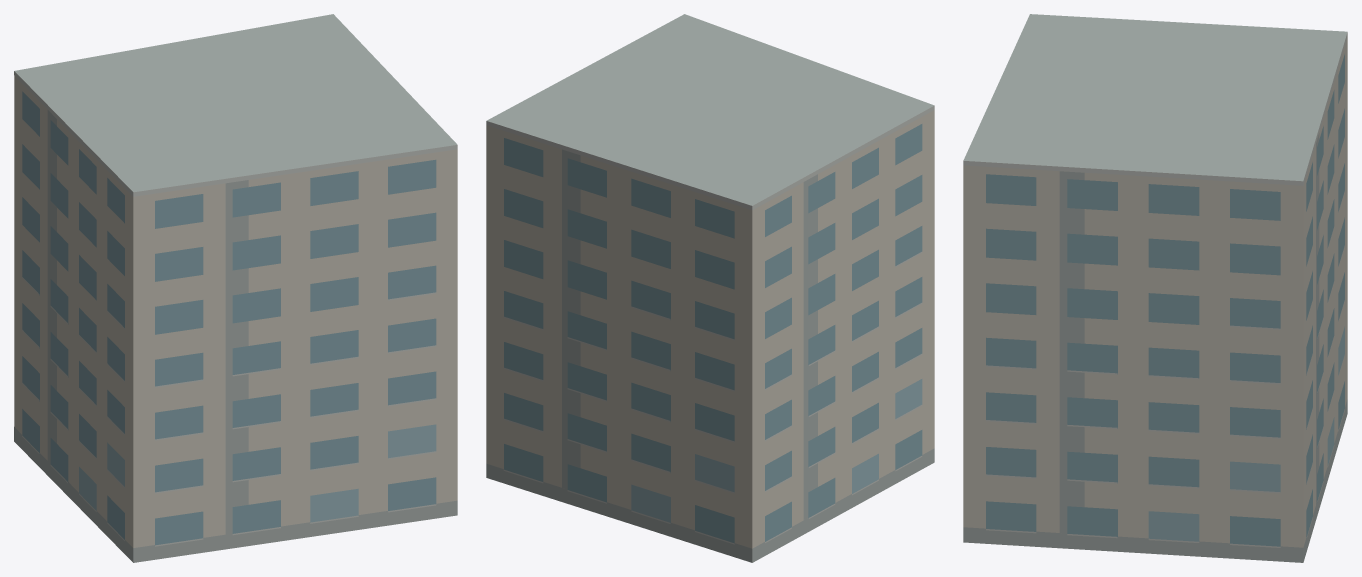
File: survey-upis-32908207.glb
The picture shows the model from 3 angles, left to right: view 1: azimuth 30°, elevation 25°; view 2: azimuth 150°, elevation 25°; view 3: azimuth 270°, elevation 25°; orthographic projection. The views are drawn at different scales.
Visible parts, largest first — view 1: survey-upis-32908207.tmp; view 2: survey-upis-32908207.tmp; view 3: survey-upis-32908207.tmp.
Boxes of the visible parts, box(x1,y1,x2,y2) form: survey-upis-32908207.tmp: box(14, 14, 457, 562); survey-upis-32908207.tmp: box(486, 14, 934, 562); survey-upis-32908207.tmp: box(963, 14, 1347, 562).
Size of the model in its own units: 18.81 by 20 by 18.27.
